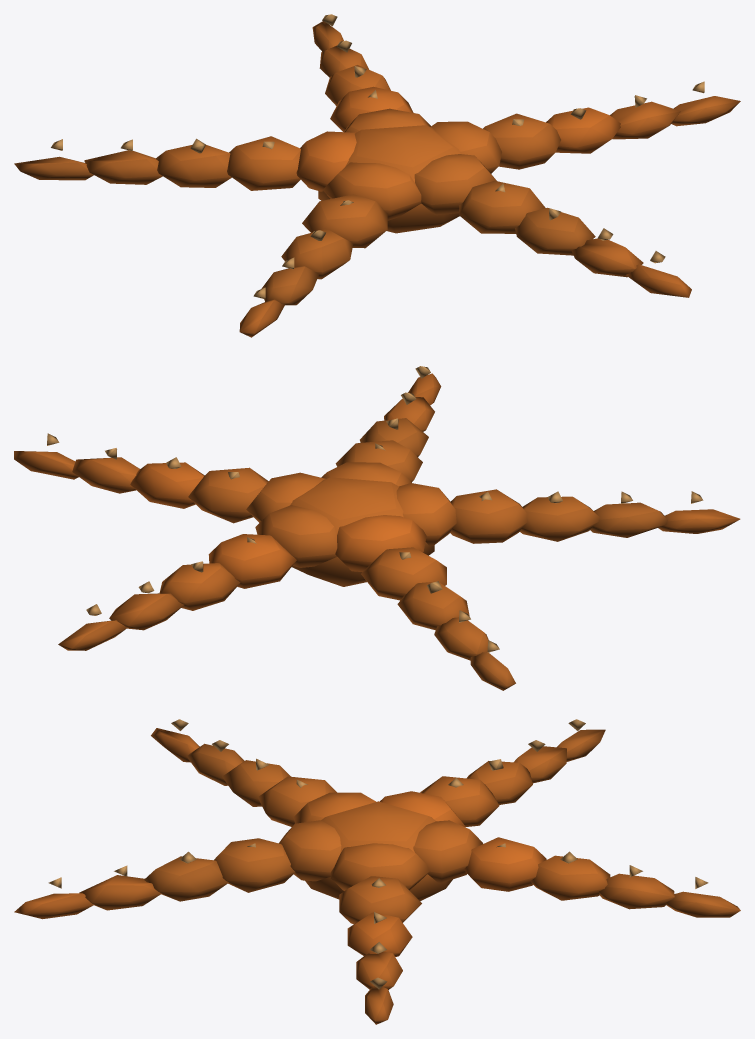
Rendered from starfish.glb.
The picture shows the model from 3 angles, top to bottom: view 1: azimuth 30°, elevation 25°; view 2: azimuth 150°, elevation 25°; view 3: azimuth 270°, elevation 25°; orthographic projection. The views are drawn at different scales.
Parts seen in each view (by area): view 1: starfish; view 2: starfish; view 3: starfish.
Boxes of the visible parts, <box> form: starfish: <box>14,14,740,337</box>; starfish: <box>14,366,740,690</box>; starfish: <box>14,719,740,1024</box>.
Size of the model in its own units: 1.11 by 0.14 by 1.16.
